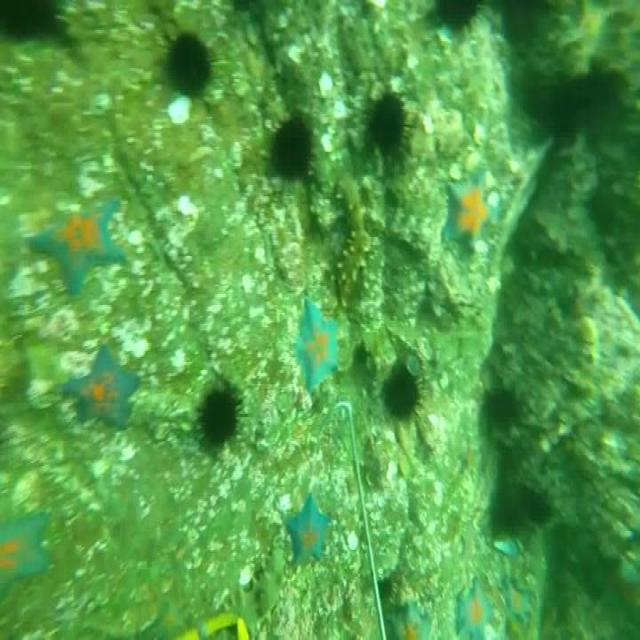echinus: (196, 381, 244, 447), (264, 109, 312, 175), (164, 28, 214, 87), (362, 92, 407, 153), (490, 490, 548, 537), (0, 0, 61, 41), (384, 360, 420, 420), (433, 0, 482, 33), (484, 392, 516, 423)
holothurian: (332, 175, 369, 299)
scallop: (165, 98, 192, 123), (322, 131, 337, 153), (237, 566, 255, 584), (316, 70, 332, 90), (347, 531, 361, 553), (334, 101, 348, 119), (129, 228, 143, 244)
starfish: (30, 196, 124, 288), (59, 341, 138, 438), (296, 298, 342, 394), (442, 169, 492, 250), (282, 496, 330, 571), (2, 514, 52, 576), (457, 581, 493, 640), (389, 597, 434, 640), (502, 578, 532, 621)
